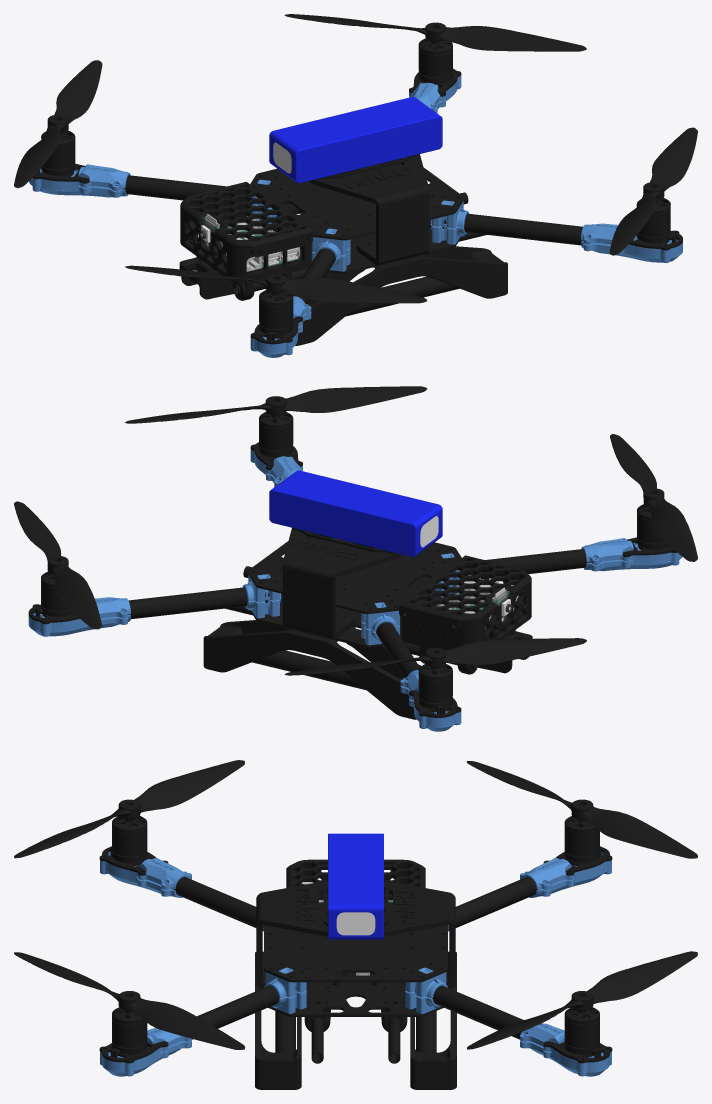
File: drone.glb
3 renders of one model, top to bottom at view 1: azimuth 30°, elevation 25°; view 2: azimuth 150°, elevation 25°; view 3: azimuth 270°, elevation 25°, orthographic. The views are drawn at different scales.
Parts seen in each view (by area): view 1: object 1, object 21, object 2, anim_drone_1_Propeller_10x45_2, anim_drone_3_Propeller_10x45_4, anim_drone_2_Propeller_10x45_3, anim_drone_0_Propeller_10x45_1, object 4; view 2: object 1, object 21, object 2, anim_drone_0_Propeller_10x45_1, anim_drone_2_Propeller_10x45_3, anim_drone_3_Propeller_10x45_4, anim_drone_1_Propeller_10x45_2; view 3: object 1, object 2, object 21, anim_drone_3_Propeller_10x45_4, anim_drone_1_Propeller_10x45_2, anim_drone_0_Propeller_10x45_1, anim_drone_2_Propeller_10x45_3, object 12.
Boxes of the visible parts, x1,y1,x2,y2 form: object 1: [32, 38, 682, 345]; object 21: [269, 96, 442, 183]; object 2: [29, 75, 682, 357]; anim_drone_1_Propeller_10x45_2: [125, 265, 427, 303]; anim_drone_3_Propeller_10x45_4: [284, 14, 586, 51]; anim_drone_2_Propeller_10x45_3: [14, 60, 102, 188]; anim_drone_0_Propeller_10x45_1: [609, 127, 697, 255]; object 4: [192, 215, 299, 271]; object 1: [28, 412, 676, 719]; object 21: [269, 470, 442, 556]; object 2: [28, 449, 682, 731]; anim_drone_0_Propeller_10x45_1: [125, 386, 427, 423]; anim_drone_2_Propeller_10x45_3: [284, 638, 586, 675]; anim_drone_3_Propeller_10x45_4: [14, 501, 101, 629]; anim_drone_1_Propeller_10x45_2: [610, 434, 697, 561]; object 1: [99, 816, 612, 1089]; object 2: [100, 851, 611, 1076]; object 21: [328, 833, 383, 939]; anim_drone_3_Propeller_10x45_4: [467, 951, 697, 1049]; anim_drone_1_Propeller_10x45_2: [14, 760, 244, 858]; anim_drone_0_Propeller_10x45_1: [14, 952, 245, 1049]; anim_drone_2_Propeller_10x45_3: [467, 761, 697, 858]; object 12: [336, 912, 375, 935].
Size of the model in its own units: 0.5344 by 0.1445 by 0.5344.
